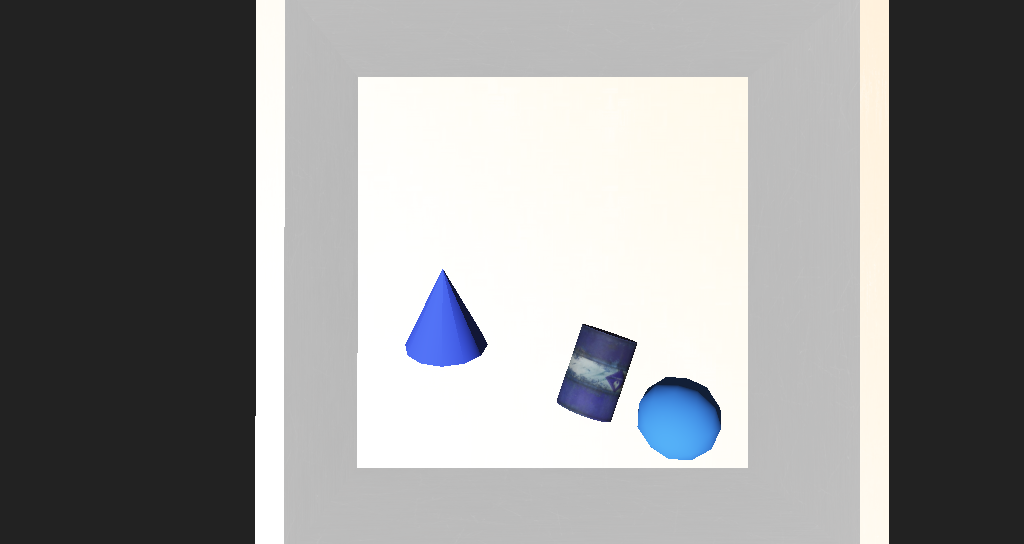cone: (505, 298, 573, 351)
cylinder: (384, 260, 451, 322)
sphere: (566, 327, 633, 370)
